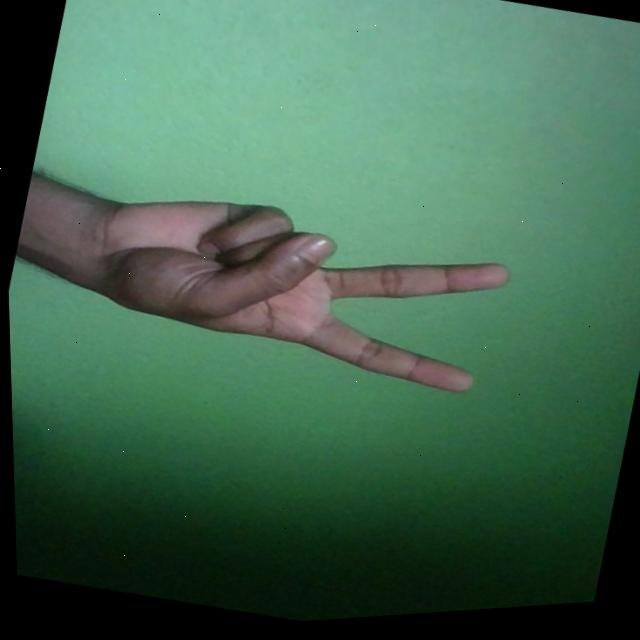Peace: (59, 156, 520, 427)
